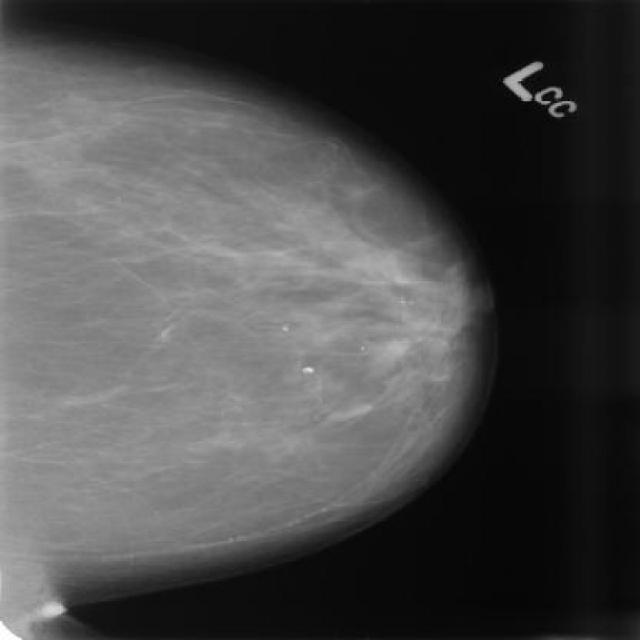tumor: (49, 112, 451, 441)
